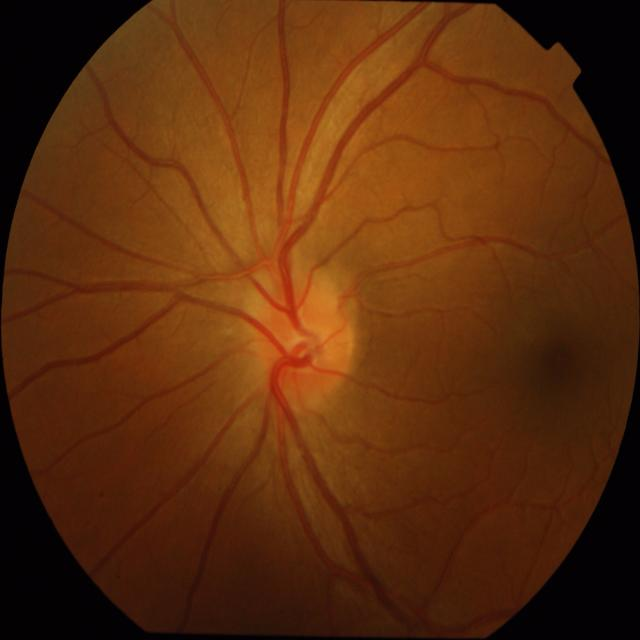OC: (282, 328, 325, 376)
OD: (245, 272, 357, 404)
